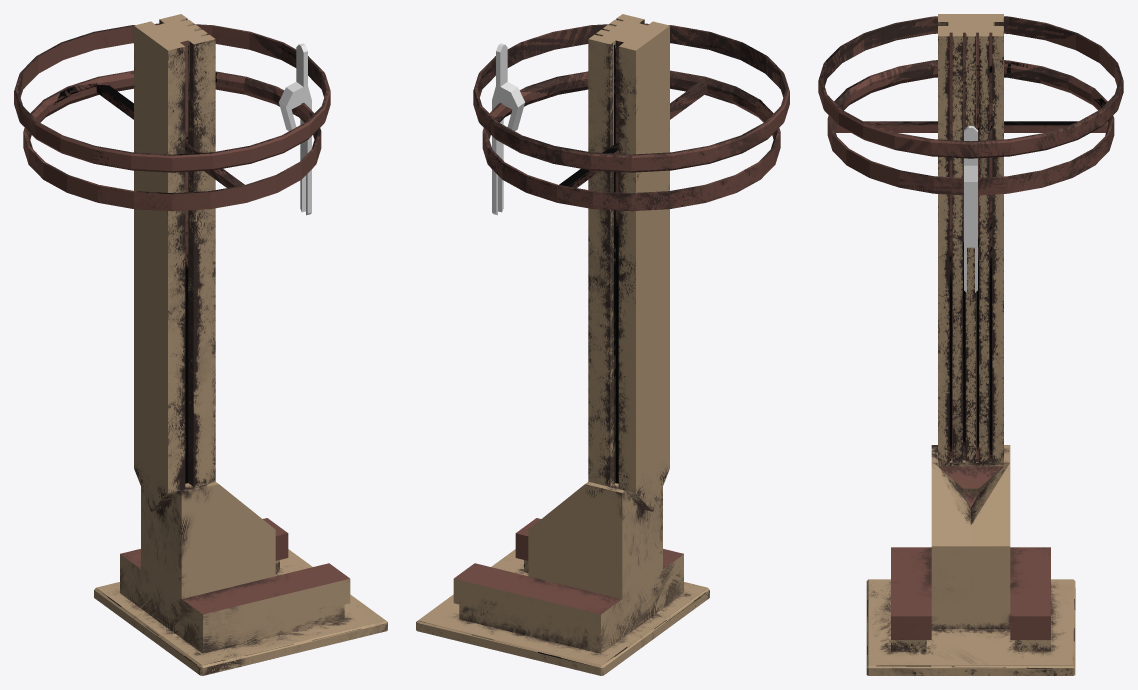
3 views of the same model, side by side, from view 1: azimuth 30°, elevation 25°; view 2: azimuth 150°, elevation 25°; view 3: azimuth 270°, elevation 25° (orthographic). The views are drawn at different scales.
Visible parts, largest first — view 1: 2x2A, RotatingPillar; view 2: 2x2A, RotatingPillar; view 3: 2x2A, RotatingPillar.
Boxes of the visible parts, left/top/right/bottom form: 2x2A: left=14, top=14, right=387, bottom=675; RotatingPillar: left=278, top=43, right=311, bottom=215; 2x2A: left=416, top=14, right=789, bottom=675; RotatingPillar: left=492, top=43, right=525, bottom=215; 2x2A: left=818, top=14, right=1123, bottom=675; RotatingPillar: left=964, top=126, right=977, bottom=292.
Bounding box in the file's own units: 3.19 × 6.09 × 2.92.
Materials: 3 (2 with a texture image).
